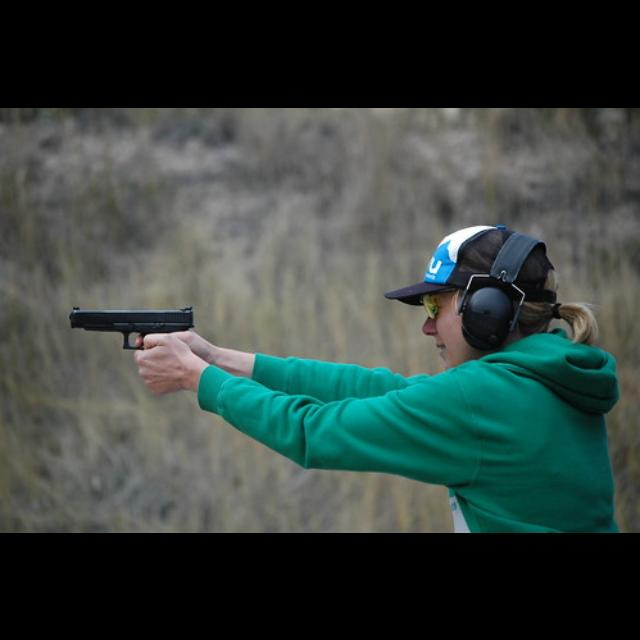handgun: (67, 300, 199, 358)
